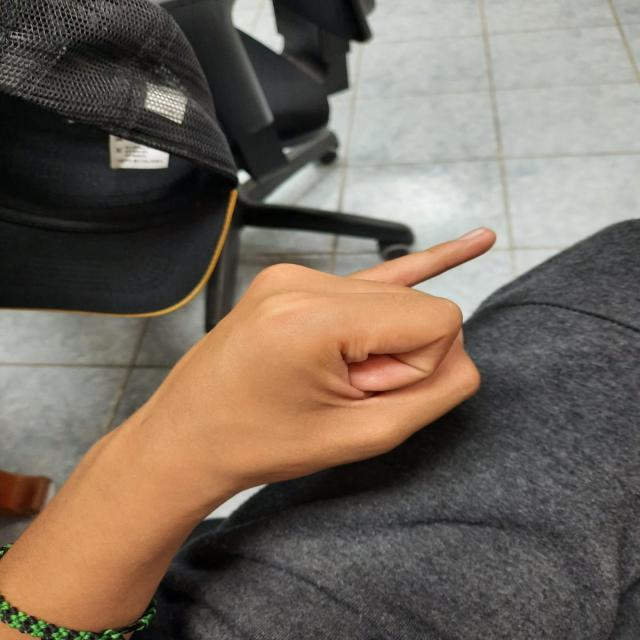Z: (137, 199, 544, 525)
